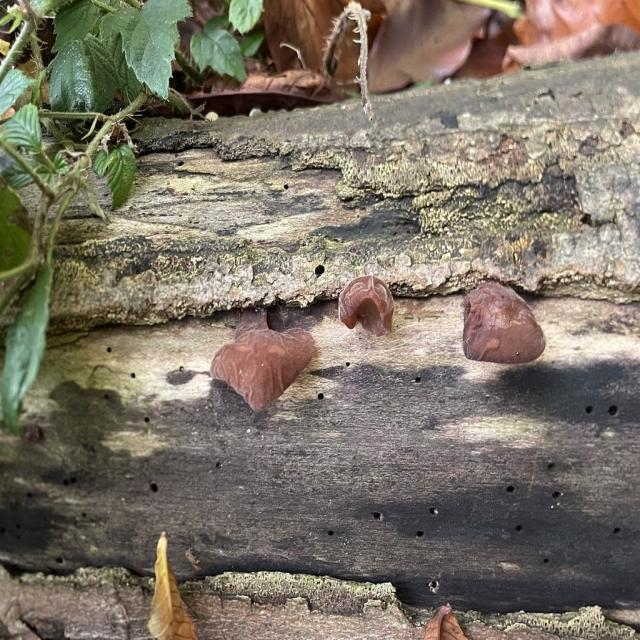Matang: (205, 321, 320, 417), (458, 275, 556, 373), (335, 271, 400, 339)
